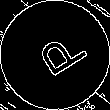P_SW: (24, 26, 86, 84)
